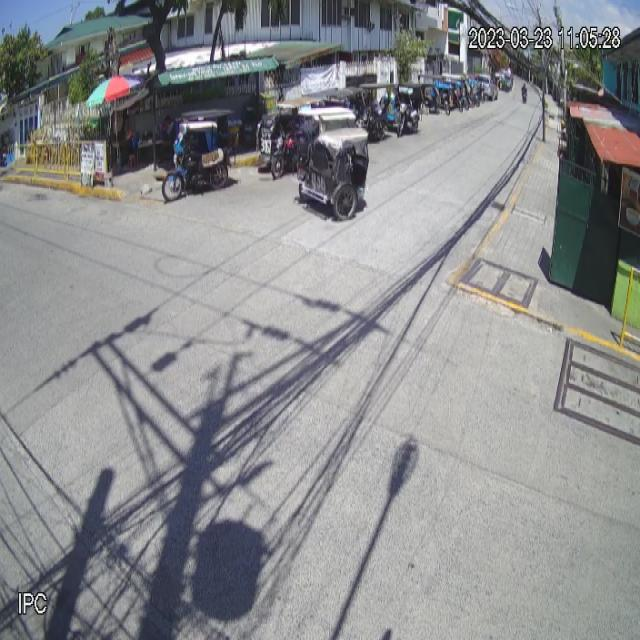Tricycle: (292, 105, 370, 222)
